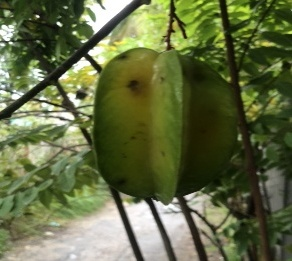Khe: (93, 46, 239, 204)
